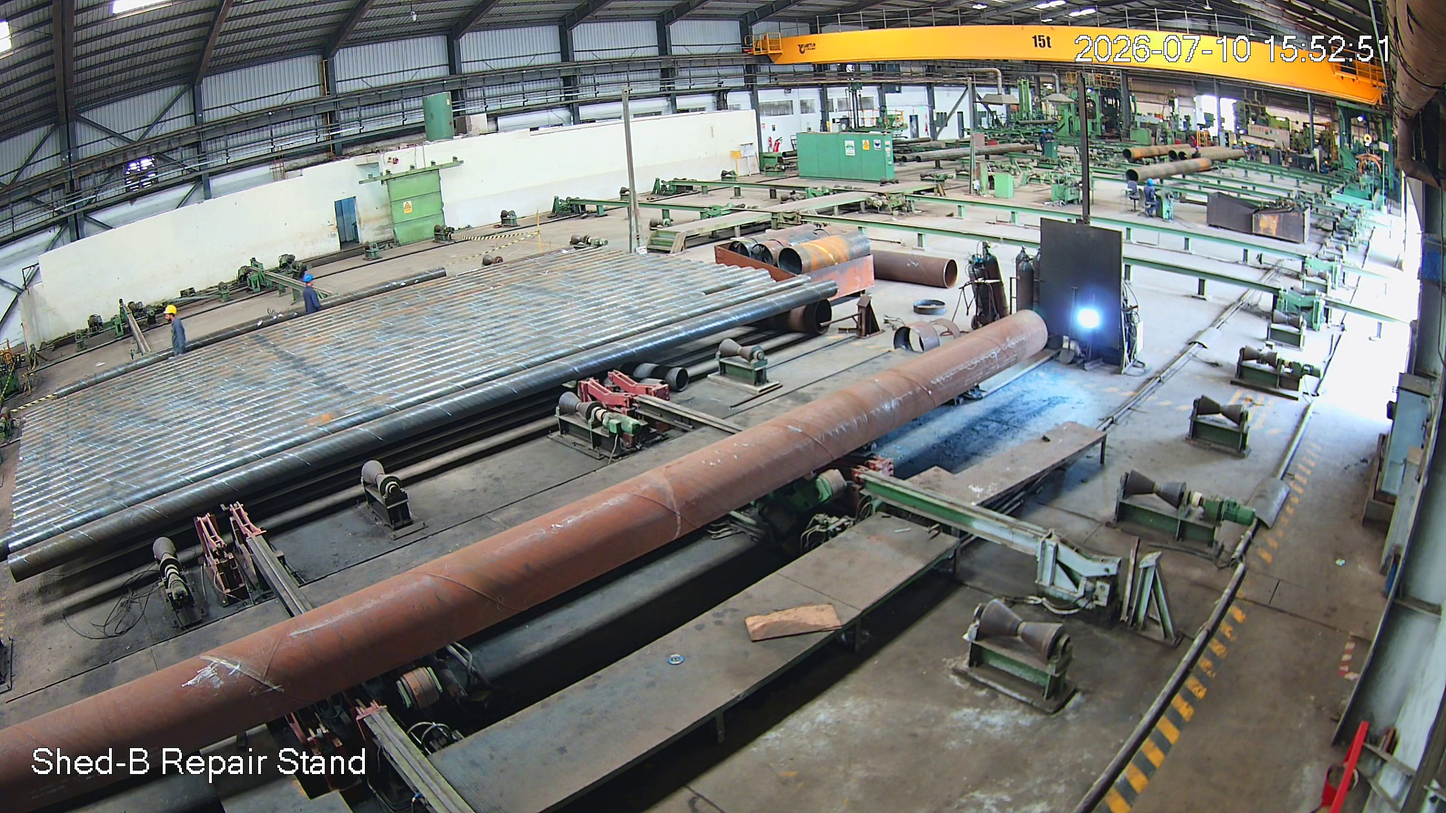Helmet: (163, 302, 178, 330), (301, 274, 317, 291)
Person: (161, 304, 189, 363), (299, 275, 324, 314)
